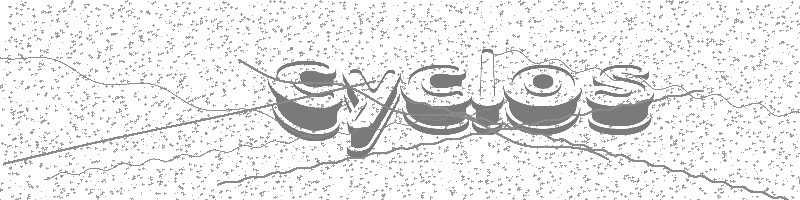c: (265, 56, 343, 143), (400, 60, 471, 134)
l: (472, 46, 505, 136)
o: (503, 61, 582, 134)
s: (584, 61, 654, 136)
y: (339, 66, 401, 158)
